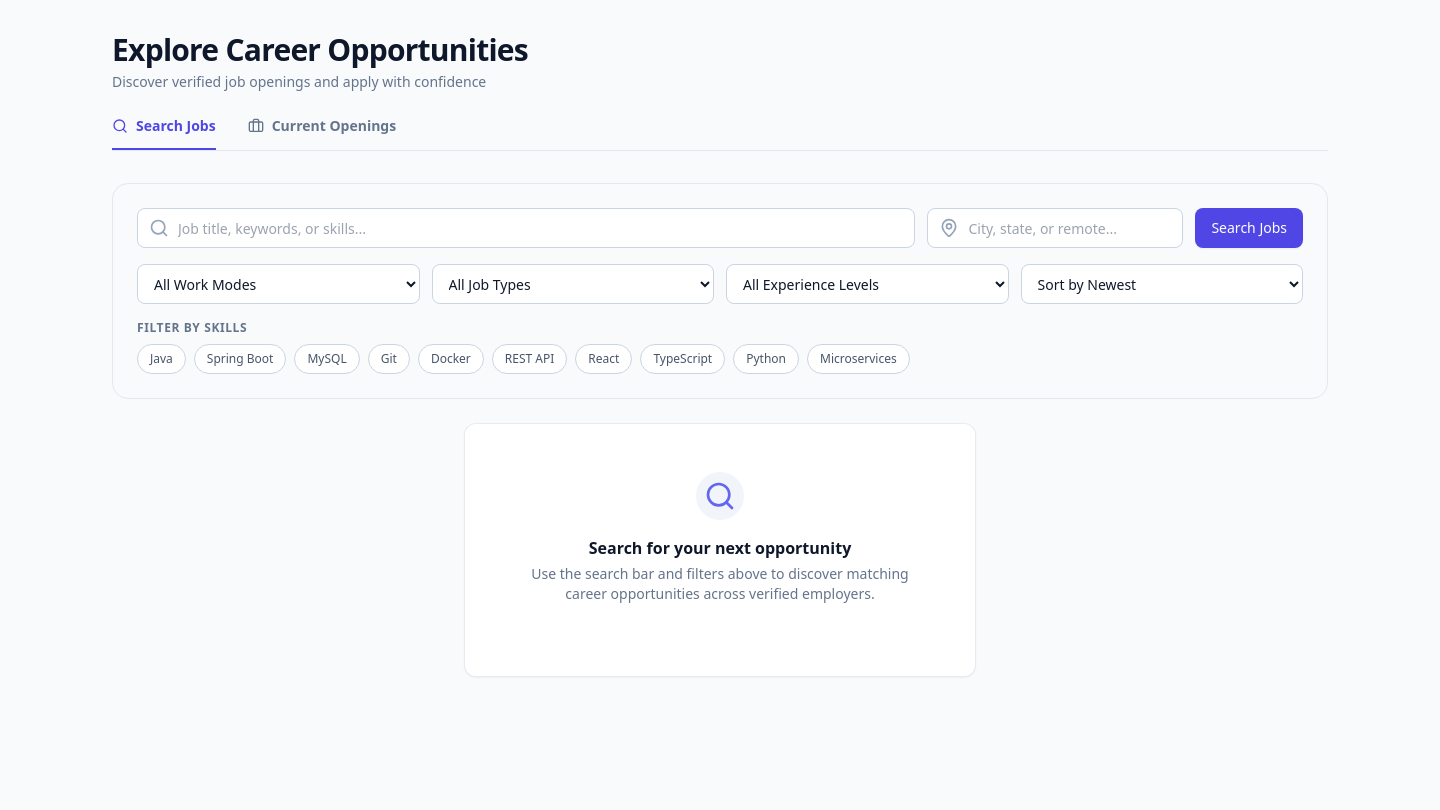
Scenario: Job Discovery Tabs & Filter Synchronization Integration › shows Reset Filters when sort is changed, and clicking Reset Filters resets sort and clears search
Check: the button "reset filters" is not shown
# Change Sort dropdown to 'Sort by Deadline'
Select "Sort by Deadline" in the 4th dropdown at (1162,284), box [1020,264,1303,304]
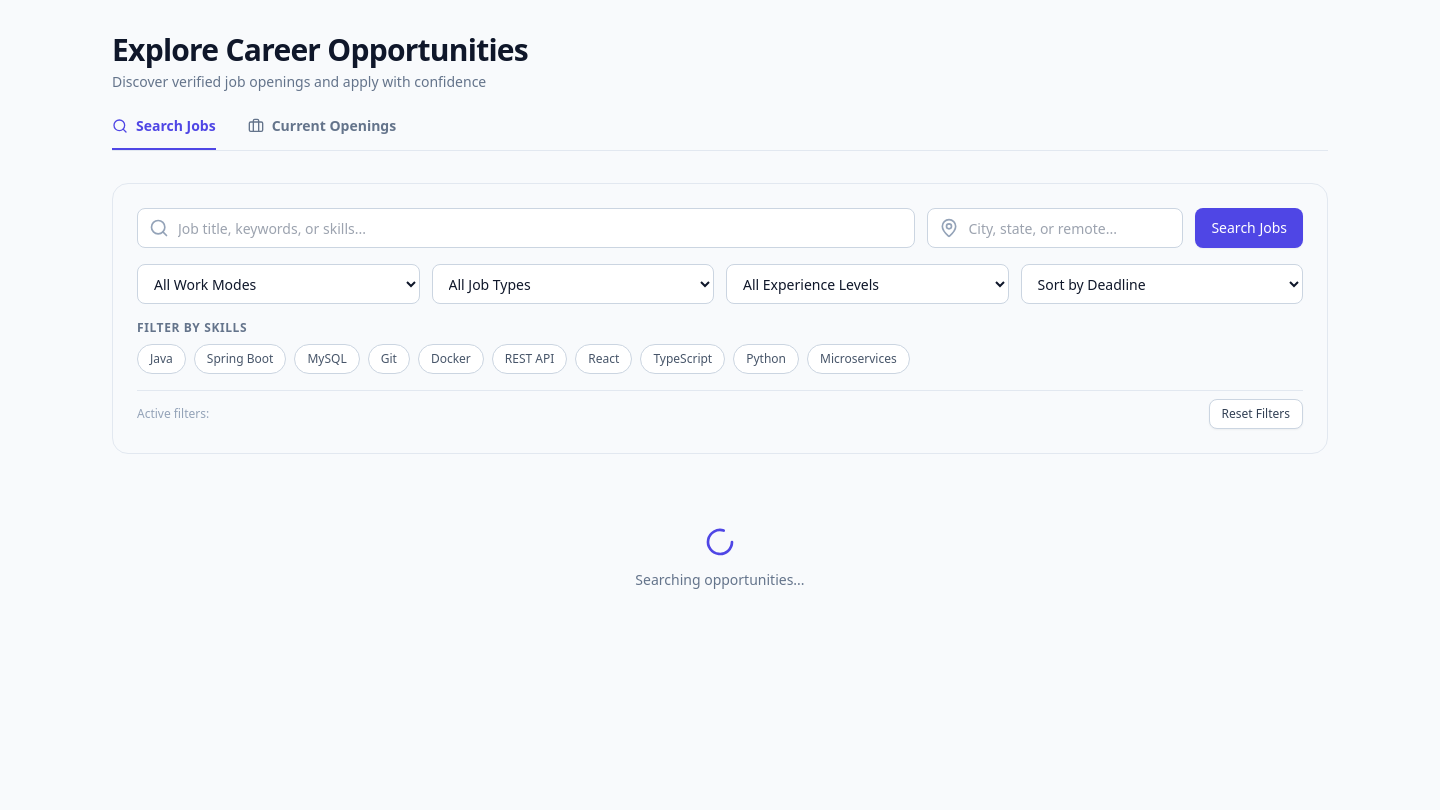
Check: the button "Reset Filters" is shown
# Click Reset Filters
Click the button "Reset Filters" at (1256,414), box [1209,399,1303,429]
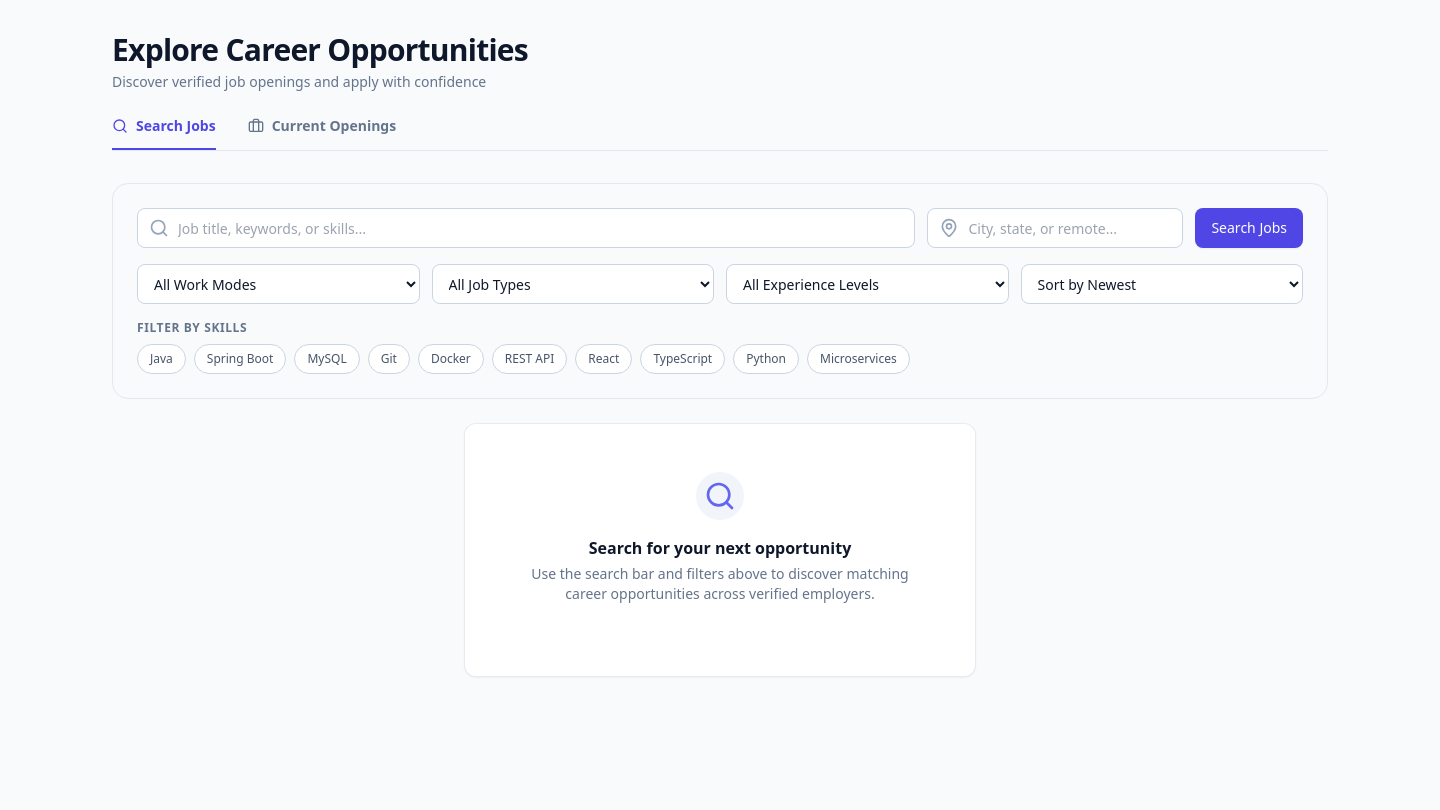
Check: the button "Reset Filters" is gone
Check: the heading "Search for your next opportunity" is shown, box [589,536,851,560]
